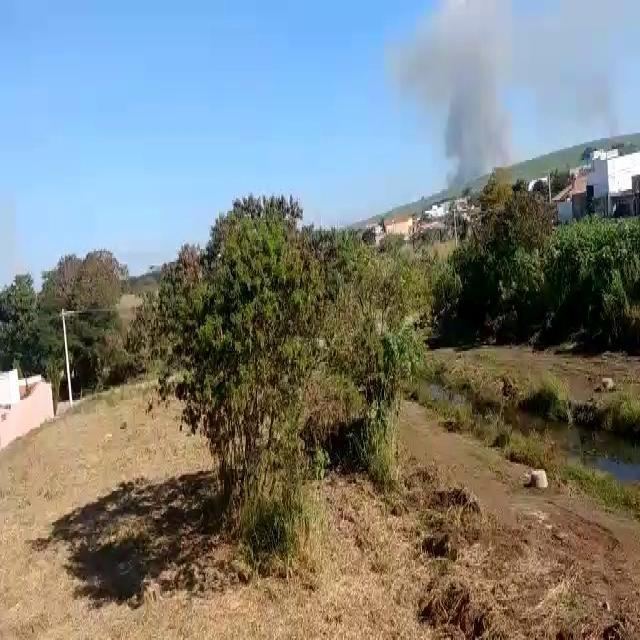Smoke: (394, 2, 627, 188)
